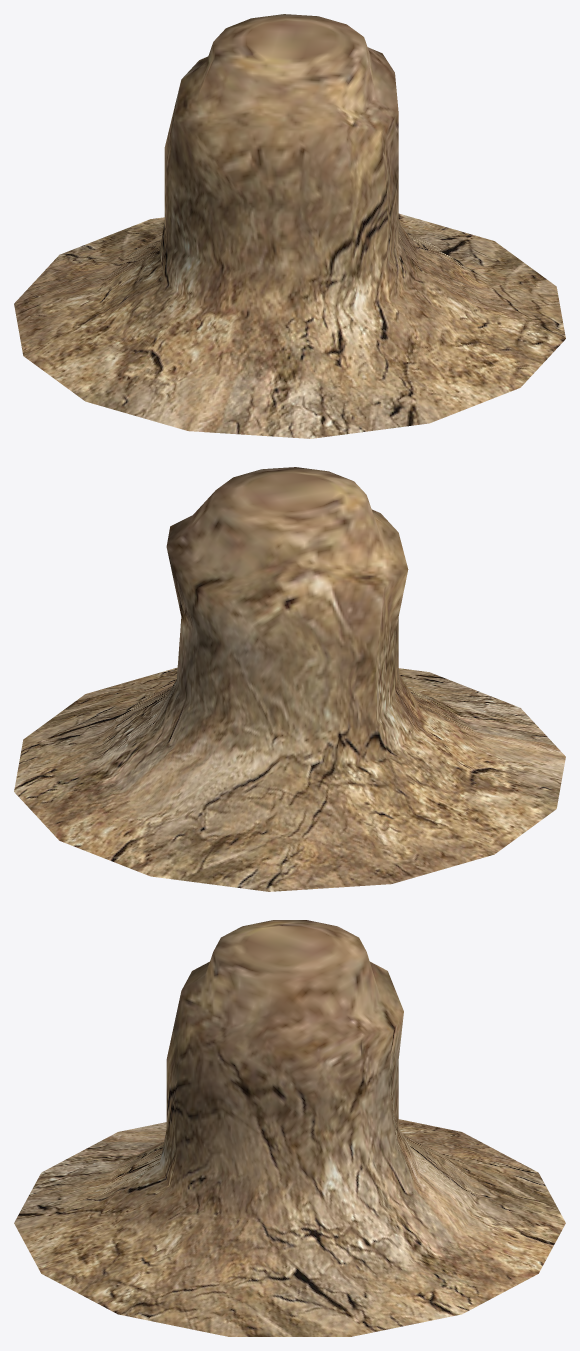
File: des_rock_formationD.fbx
3 renders of one model, top to bottom at view 1: azimuth 30°, elevation 25°; view 2: azimuth 150°, elevation 25°; view 3: azimuth 270°, elevation 25°, orthographic.
Parts seen in each view (by area): view 1: rock1; view 2: rock1; view 3: rock1.
Part boxes in pixels (left/top/right/bottom): rock1: left=14, top=14, right=565, bottom=438; rock1: left=14, top=467, right=565, bottom=891; rock1: left=14, top=920, right=565, bottom=1336.
Bounding box in the file's own units: 1545 × 883 × 1584.
Materials: 1 (1 with a texture image).
